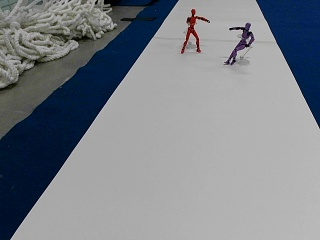pedestrian: (181, 8, 210, 53), (225, 20, 254, 64)
